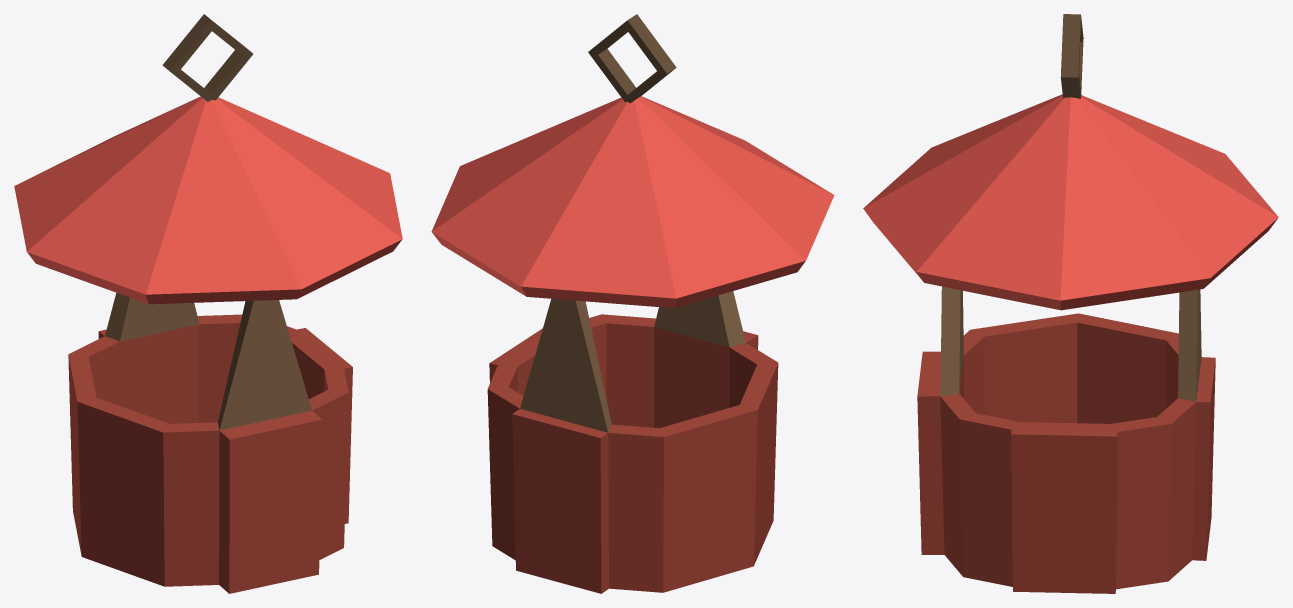
The model's file is FerrisWheelCart3.gltf.
The picture shows the model from 3 angles, left to right: view 1: azimuth 30°, elevation 25°; view 2: azimuth 150°, elevation 25°; view 3: azimuth 270°, elevation 25°; orthographic projection.
Visible parts, largest first — view 1: ferriswheel.002; view 2: ferriswheel.002; view 3: ferriswheel.002.
Boxes of the visible parts, x1=… form: ferriswheel.002: x1=14, y1=14, x2=402, y2=593; ferriswheel.002: x1=431, y1=14, x2=834, y2=593; ferriswheel.002: x1=863, y1=14, x2=1278, y2=593.
Bounding box in the file's own units: 1.71 × 2.37 × 1.71.
1 material, 1 textured.
